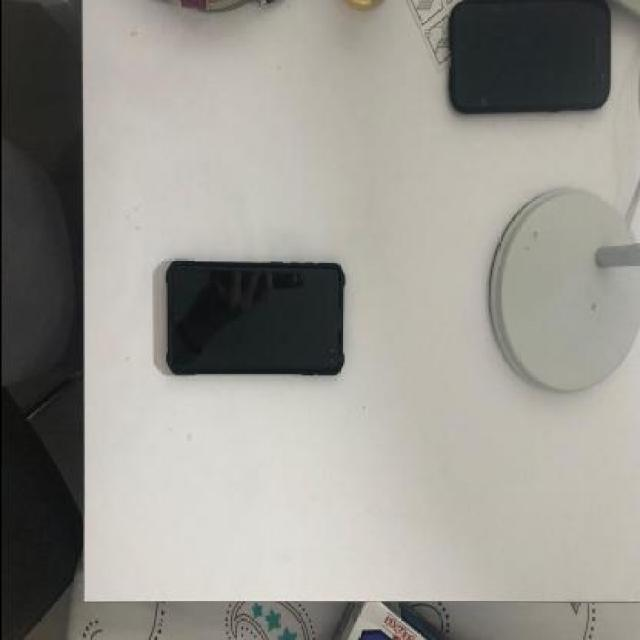phone: (165, 257, 343, 377), (449, 1, 609, 115)
